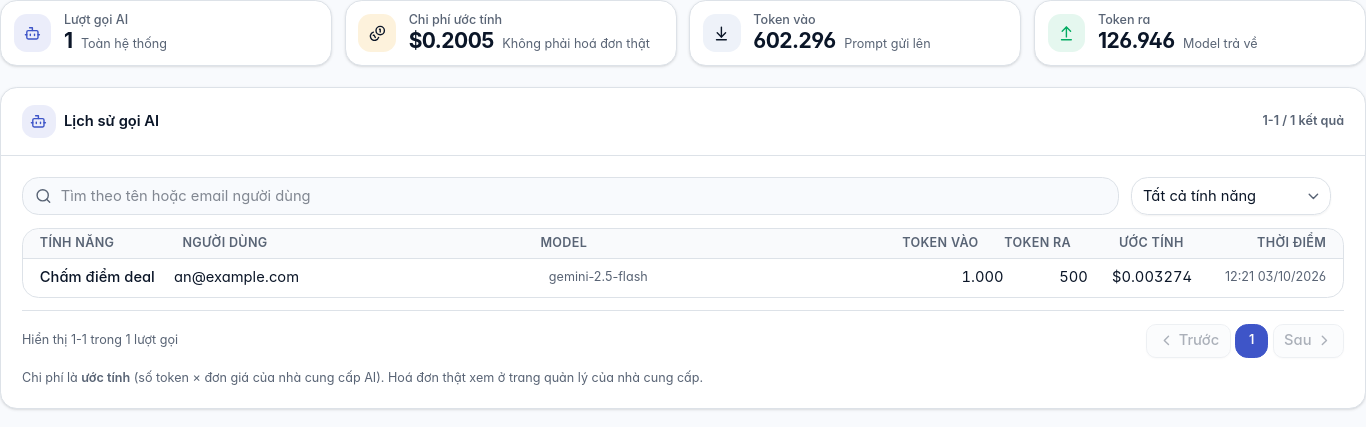
<AdminAiCostsPage /> — tìm kiếm và lọc › đang lọc thì thẻ 'Lượt gọi AI' ghi là khớp bộ lọc; không lọc thì ghi toàn hệ thống
Check: the text "Toàn hệ thống" is shown, box x1=81 y1=36 x2=167 y2=53
Step 1. Click the dropdown named "Lọc tính năng" → (1231,196), box x1=1131 y1=177 x2=1331 y2=215
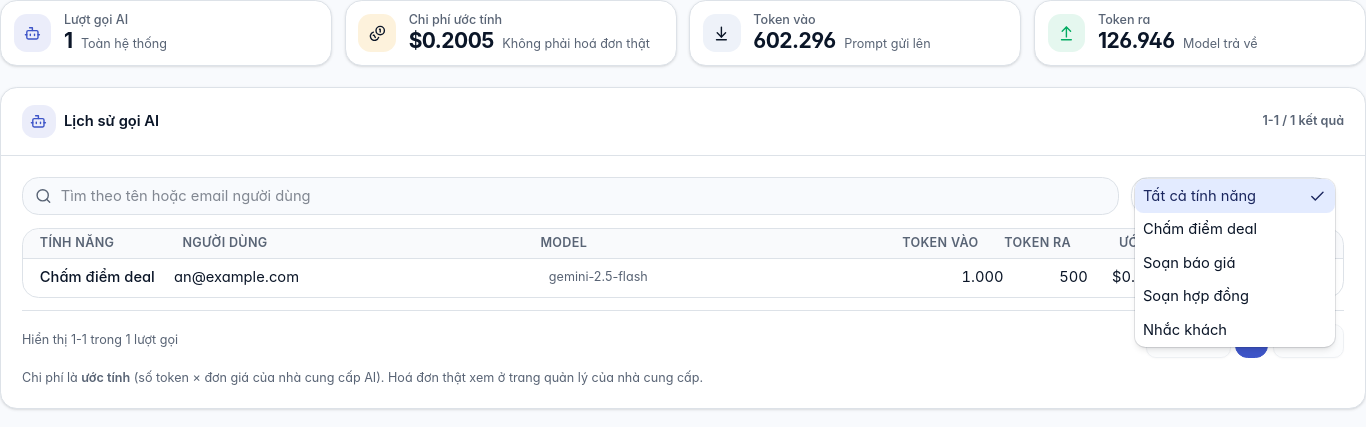
Step 2. Click the option "Soạn hợp đồng" → (1196,296), box x1=1143 y1=287 x2=1249 y2=305
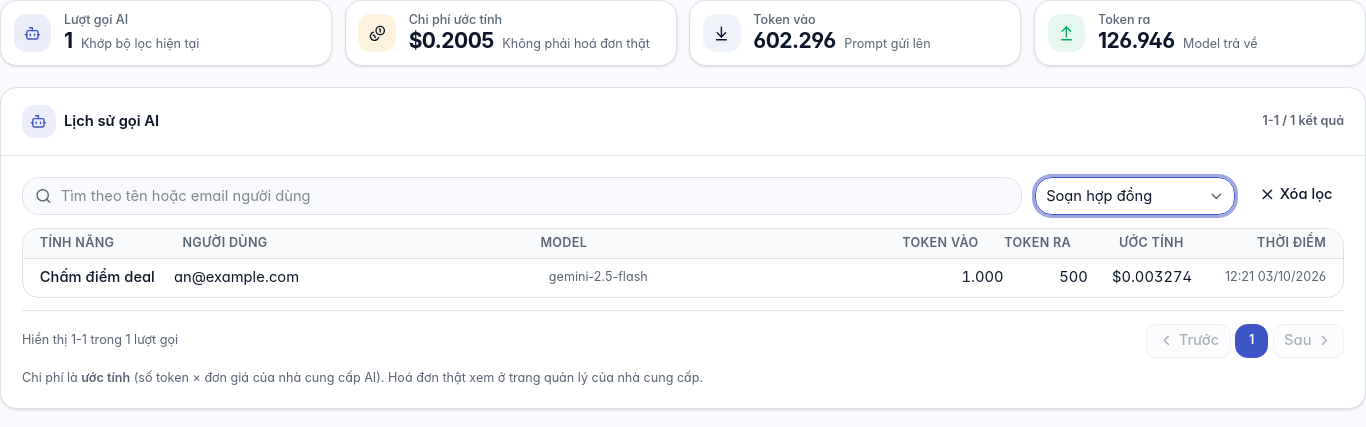
Check: the text "Khớp bộ lọc hiện tại" is shown, box x1=81 y1=36 x2=199 y2=53
Check: the text "Toàn hệ thống" is gone
